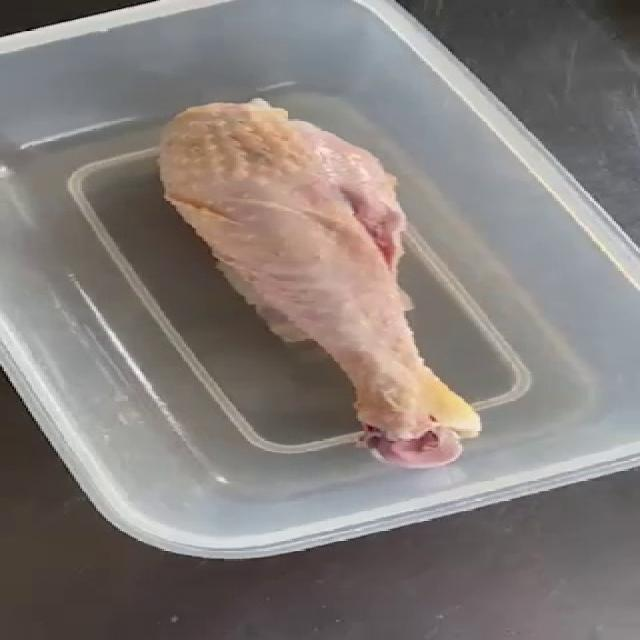chicken: (156, 96, 483, 469)
